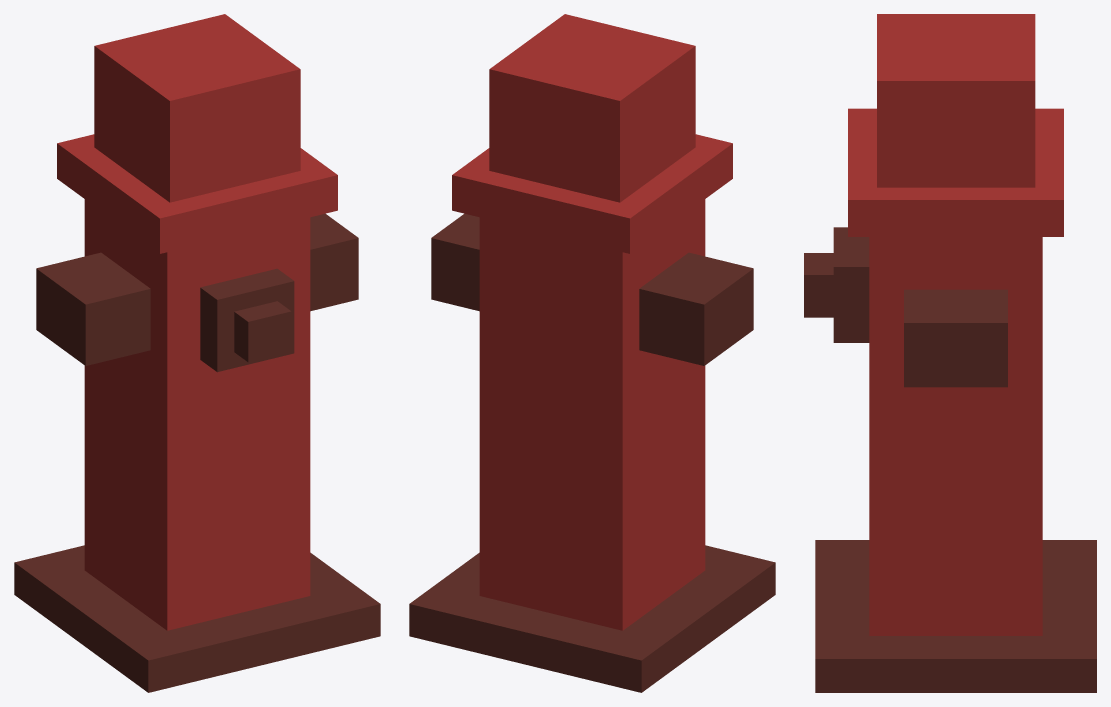
Rendered from hydrant.fbx.
3 renders of one model, left to right at view 1: azimuth 30°, elevation 25°; view 2: azimuth 150°, elevation 25°; view 3: azimuth 270°, elevation 25°, orthographic. The views are drawn at different scales.
Visible parts, largest first — view 1: hydrant; view 2: hydrant; view 3: hydrant.
Part boxes in pixels (left/top/right/bottom): hydrant: left=14, top=14, right=380, bottom=692; hydrant: left=409, top=14, right=775, bottom=692; hydrant: left=804, top=14, right=1096, bottom=692.
Bounding box in the file's own units: 95.4 × 186 × 84.35.
